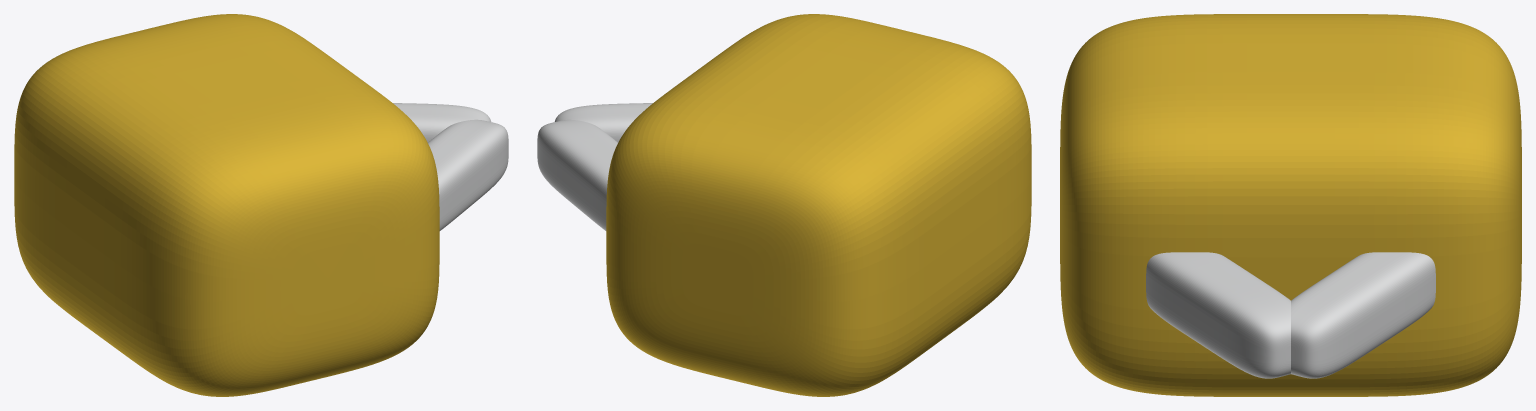
Rendered from blue_teacup_sq.glb.
3 views of the same model, side by side, from view 1: azimuth 30°, elevation 25°; view 2: azimuth 150°, elevation 25°; view 3: azimuth 270°, elevation 25° (orthographic). The views are drawn at different scales.
Parts seen in each view (by area): view 1: superquadric_0, superquadric_1, superquadric_2; view 2: superquadric_0, superquadric_2, superquadric_1; view 3: superquadric_0, superquadric_1, superquadric_2.
Part boxes in pixels (left/top/right/bottom): superquadric_0: left=14, top=14, right=439, bottom=396; superquadric_1: left=428, top=119, right=508, bottom=230; superquadric_2: left=393, top=103, right=491, bottom=142; superquadric_0: left=606, top=14, right=1031, bottom=396; superquadric_2: left=537, top=119, right=617, bottom=230; superquadric_1: left=554, top=103, right=652, bottom=142; superquadric_0: left=1060, top=14, right=1521, bottom=396; superquadric_1: left=1146, top=252, right=1290, bottom=378; superquadric_2: left=1291, top=252, right=1435, bottom=378.
Bounding box in the file's own units: 1 × 0.5818 × 0.8463.
